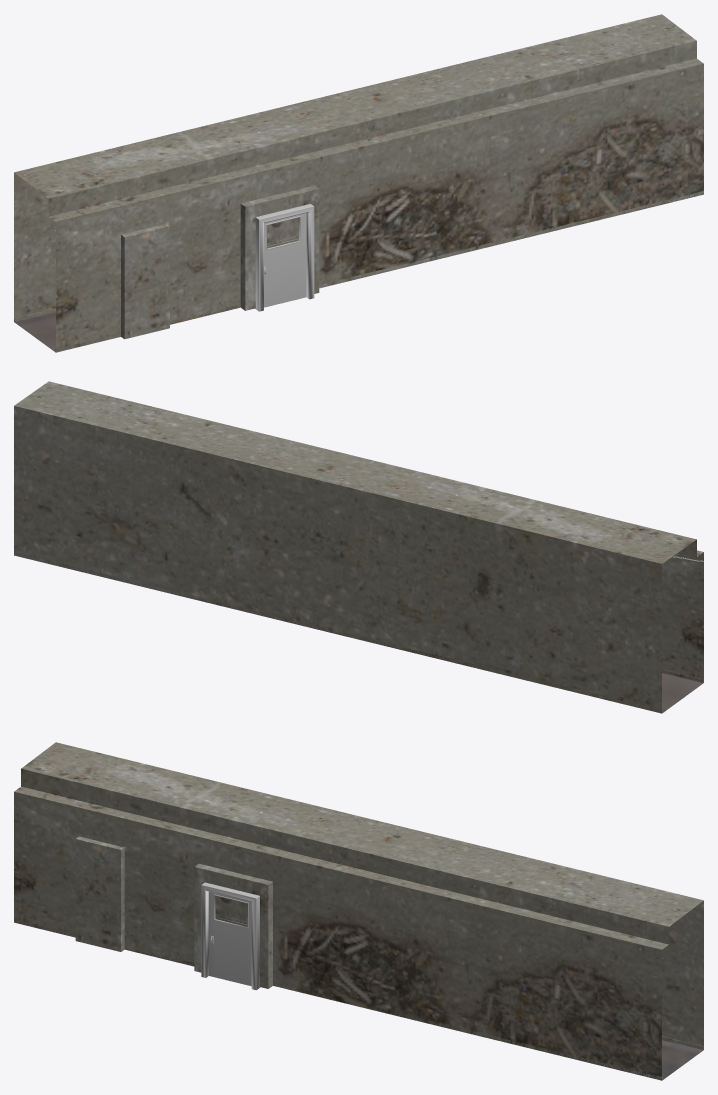
File: corridor 1.fbx
3 views of the same model, one above another, from view 1: azimuth 30°, elevation 25°; view 2: azimuth 150°, elevation 25°; view 3: azimuth 330°, elevation 25° (orthographic).
Parts seen in each view (by area): view 1: Walls, Polygon.1_Untitled.001, WallBump, Door.001; view 2: Walls, WallBump; view 3: Walls, Polygon.1_Untitled.001, Door.001, WallBump.
Part boxes in pixels (x1,y1,x2,y2): Walls: (14, 14, 703, 352); Polygon.1_Untitled.001: (264, 213, 306, 307); WallBump: (14, 191, 703, 352); Door.001: (255, 204, 314, 311); Walls: (14, 381, 703, 712); WallBump: (14, 552, 703, 713); Walls: (14, 742, 703, 1080); Polygon.1_Untitled.001: (209, 891, 251, 986); Door.001: (201, 882, 260, 990); WallBump: (14, 919, 703, 1080).
Size of the model in its own units: 3598 by 798 by 480.
